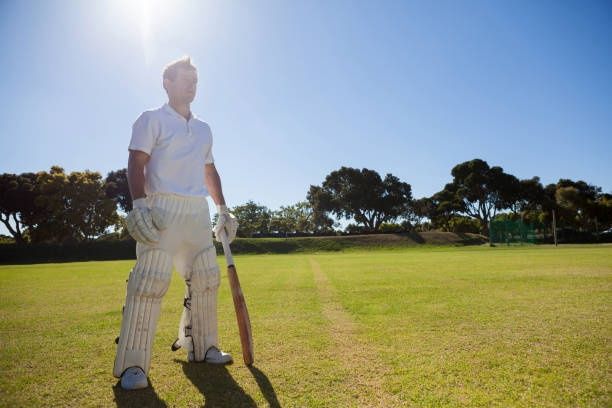bita: (215, 220, 258, 363)
